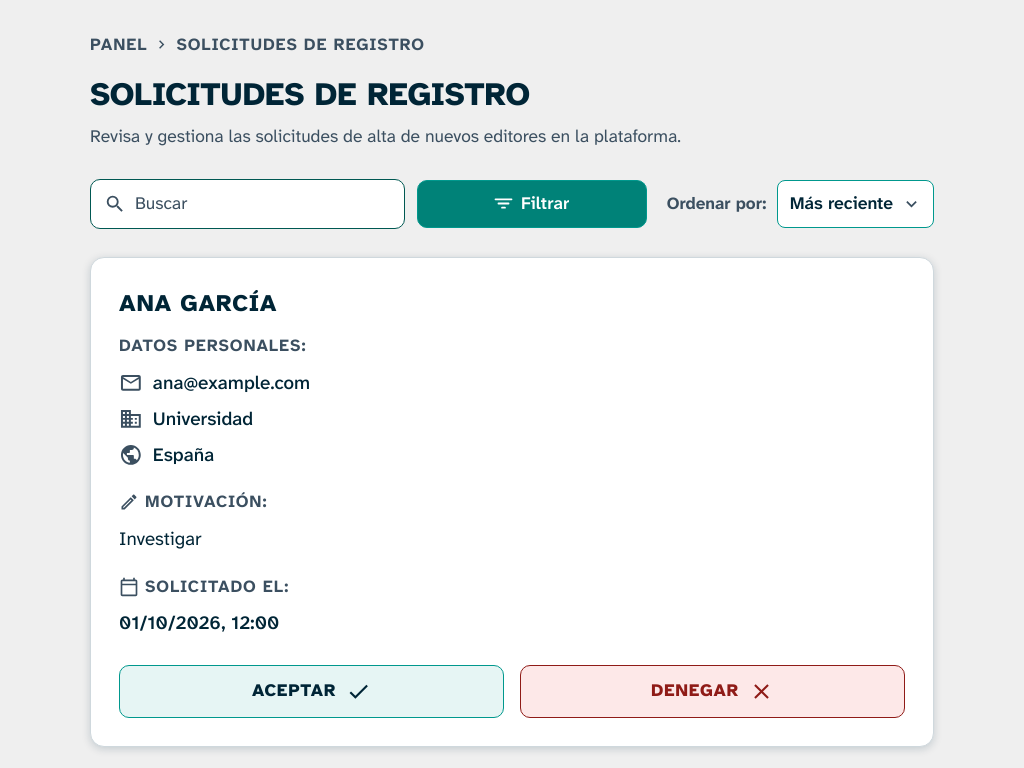
Test case: RegistrationRequestsPage › confirma la aprobación y retira la solicitud
Expected: the heading "Ana García" is shown, [119,288,277,319]
Step 1. Click the button "ACEPTAR" → click(312, 692), box [119,665,504,718]
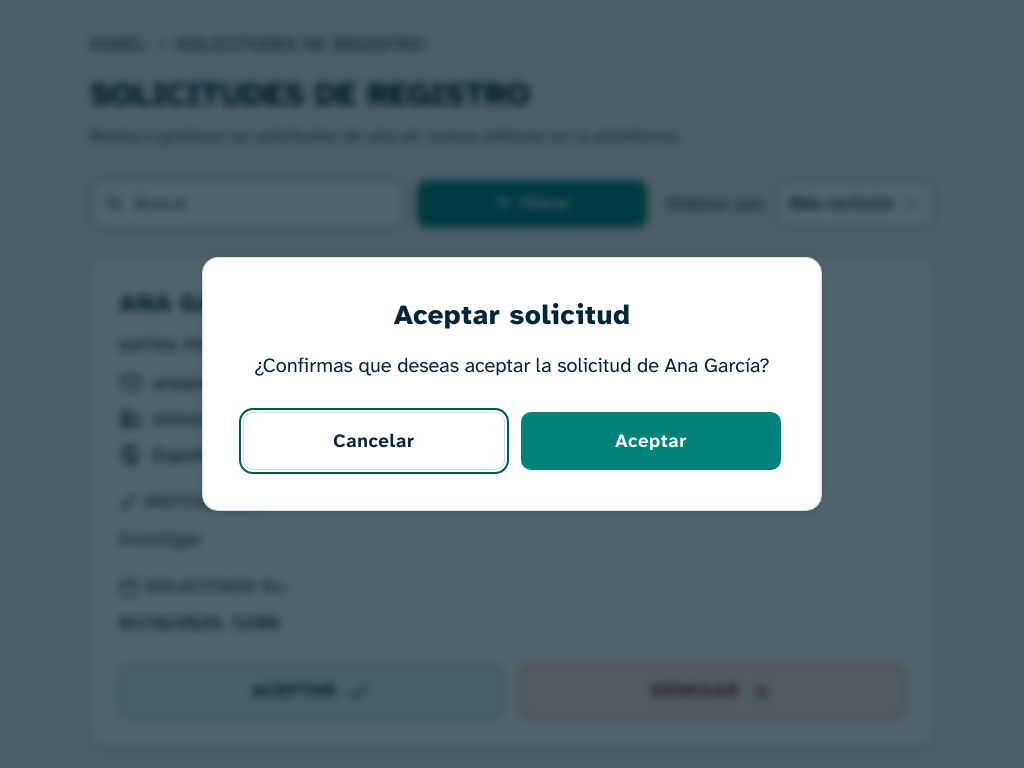
Step 2. Click the button "Aceptar" → click(651, 441), box [521,412,781,470]
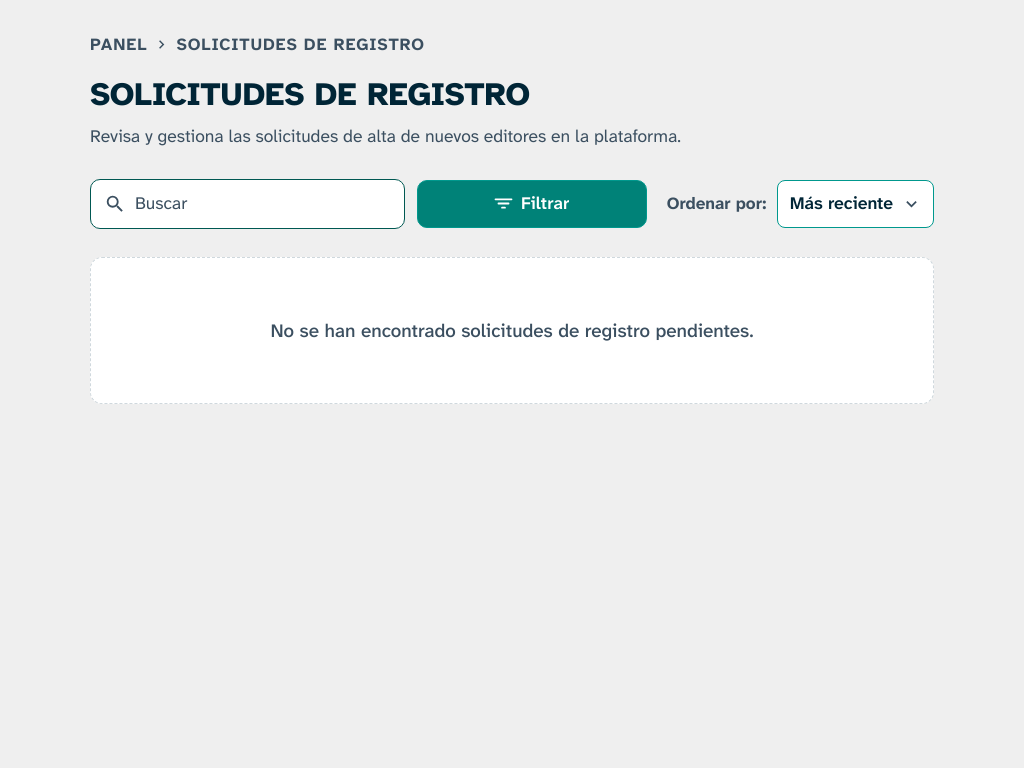
Expected: the text "No se han encontrado solicitudes de registro pendientes." is shown, [270,318,754,342]
